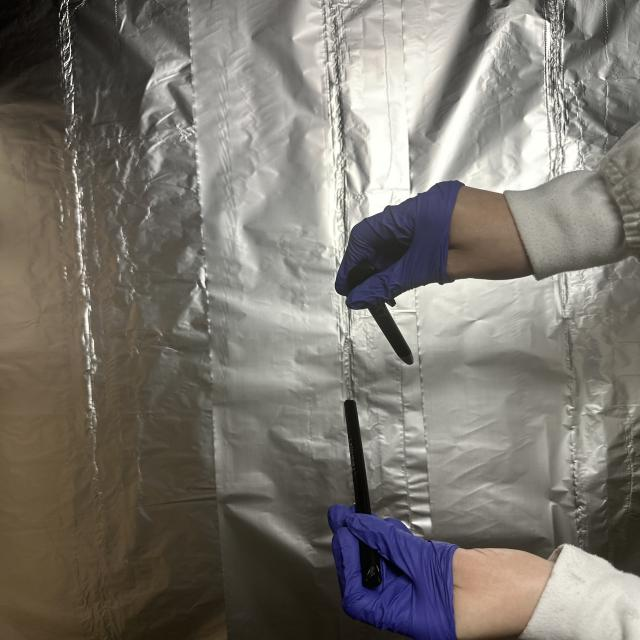glove_partial: (323, 503, 565, 640), (333, 176, 540, 310)
